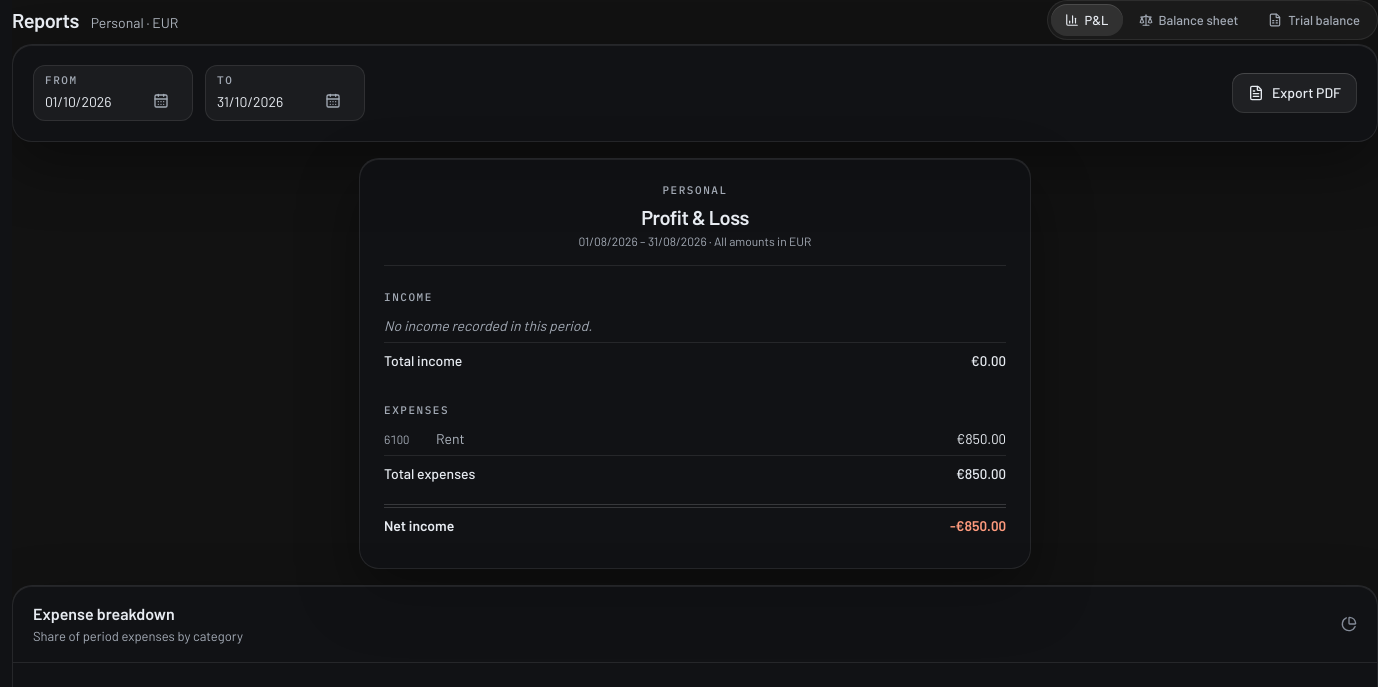
ReportsPage Export PDF › toolbar button is on P&L only and uses reports.exportPdf
Check: the button "Export PDF" is shown, box [1232, 73, 1357, 113]
Click the button "Balance sheet".
click(1188, 20)  # box [1124, 4, 1252, 36]
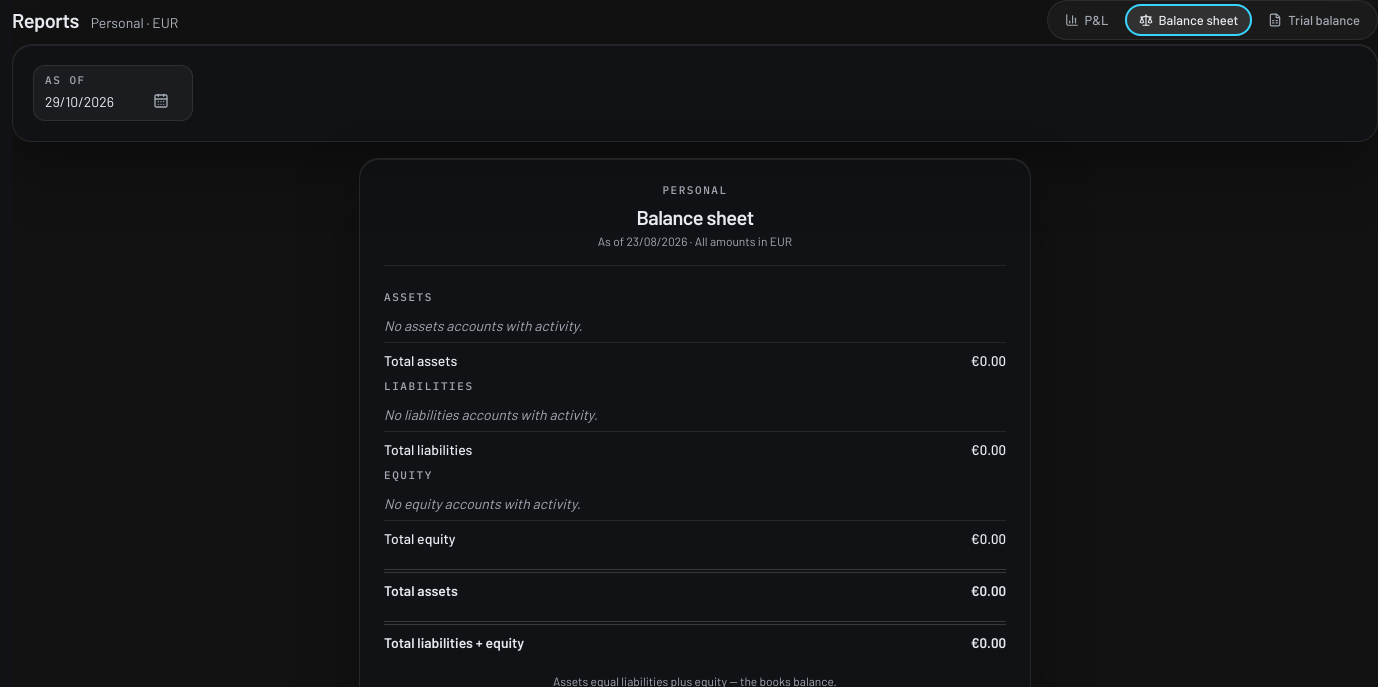
Check: the button "Export PDF" is gone
Click the button "Trial balance".
click(1314, 20)  # box [1254, 4, 1374, 36]
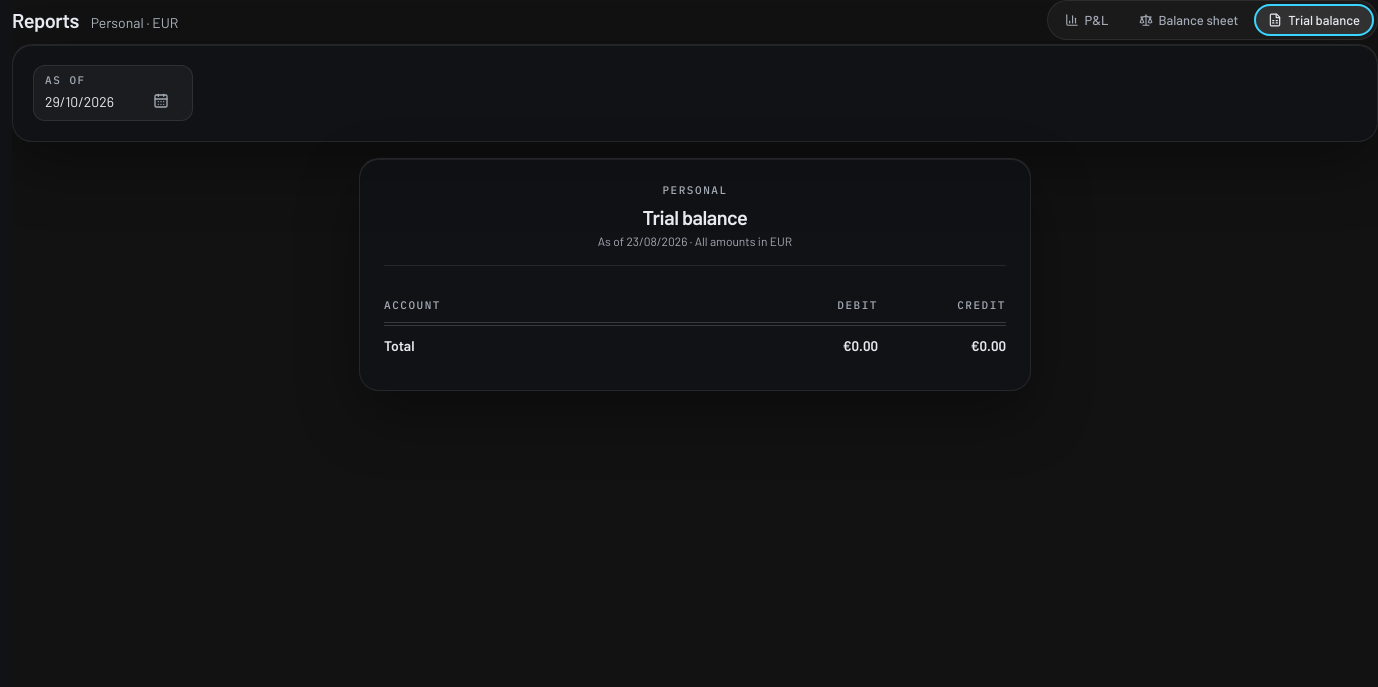
Check: the button "Export PDF" is not shown
Click the button "P&L".
click(1087, 20)  # box [1051, 4, 1122, 36]
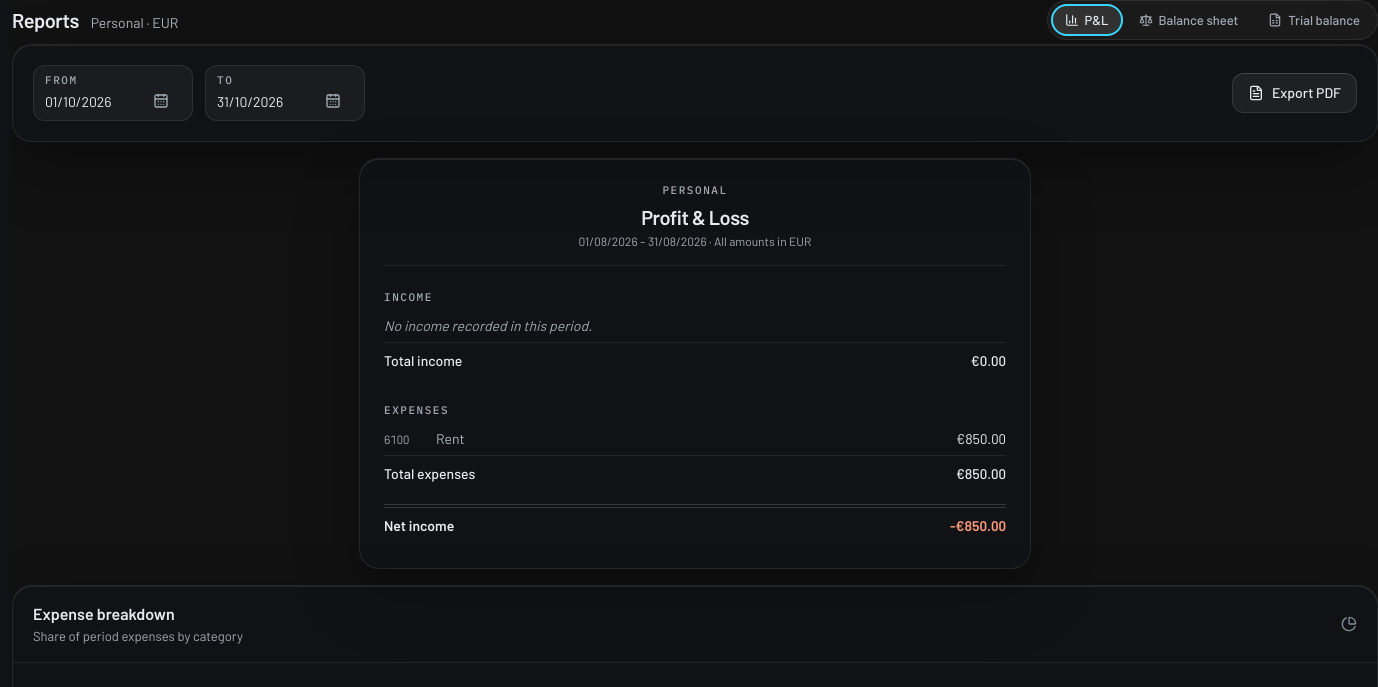
Check: the button "Export PDF" is shown, box [1232, 73, 1357, 113]
